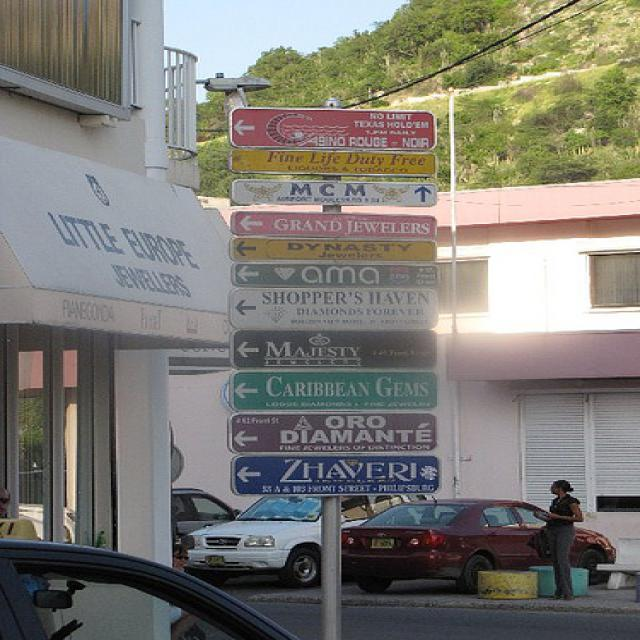Vehicle: (0, 538, 305, 640), (342, 500, 618, 594), (179, 493, 438, 589), (170, 489, 233, 546), (170, 486, 240, 537)
